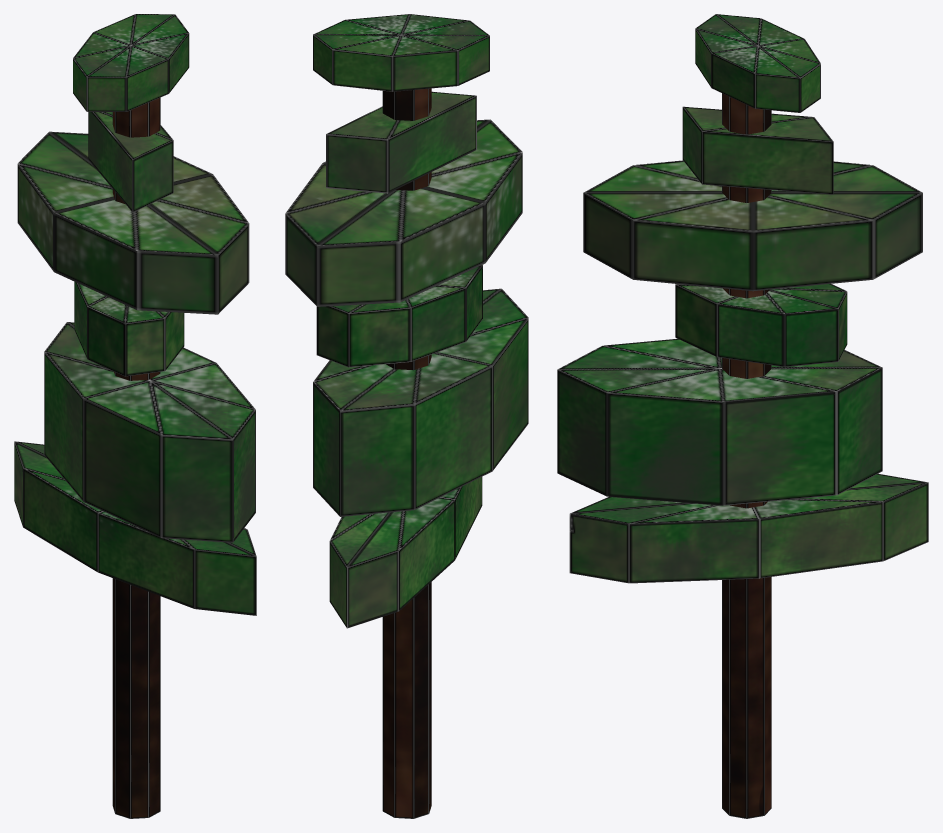
The model's file is TREE_6.fbx.
3 renders of one model, left to right at view 1: azimuth 30°, elevation 25°; view 2: azimuth 150°, elevation 25°; view 3: azimuth 270°, elevation 25°, orthographic. The views are drawn at different scales.
Parts seen in each view (by area): view 1: pCylinder15, pCylinder13, pCylinder14, trunk5, pCylinder18, pCylinder17, pCylinder16; view 2: pCylinder15, pCylinder13, pCylinder14, trunk5, pCylinder18, pCylinder17, pCylinder16; view 3: pCylinder15, pCylinder13, pCylinder14, trunk5, pCylinder17, pCylinder16, pCylinder18.
Boxes of the visible parts, x1=… form: pCylinder15: x1=44, y1=322, x2=255, y2=542; pCylinder13: x1=17, y1=131, x2=249, y2=314; pCylinder14: x1=14, y1=441, x2=256, y2=615; trunk5: x1=112, y1=97, x2=160, y2=818; pCylinder18: x1=73, y1=14, x2=189, y2=111; pCylinder17: x1=74, y1=281, x2=184, y2=376; pCylinder16: x1=88, y1=112, x2=173, y2=212; pCylinder15: x1=313, y1=288, x2=528, y2=516; pCylinder13: x1=285, y1=119, x2=522, y2=306; pCylinder14: x1=329, y1=477, x2=482, y2=628; trunk5: x1=382, y1=88, x2=431, y2=818; pCylinder18: x1=313, y1=14, x2=489, y2=91; pCylinder17: x1=316, y1=265, x2=482, y2=367; pCylinder16: x1=326, y1=91, x2=476, y2=193; pCylinder15: x1=557, y1=338, x2=882, y2=505; pCylinder13: x1=583, y1=160, x2=922, y2=291; pCylinder14: x1=569, y1=473, x2=928, y2=583; trunk5: x1=722, y1=93, x2=771, y2=818; pCylinder17: x1=675, y1=284, x2=847, y2=366; pCylinder16: x1=682, y1=106, x2=833, y2=194; pCylinder18: x1=695, y1=14, x2=820, y2=112.
Size of the model in its own units: 2.23 by 10.17 by 4.49.
Materials: 2 (2 with a texture image).
